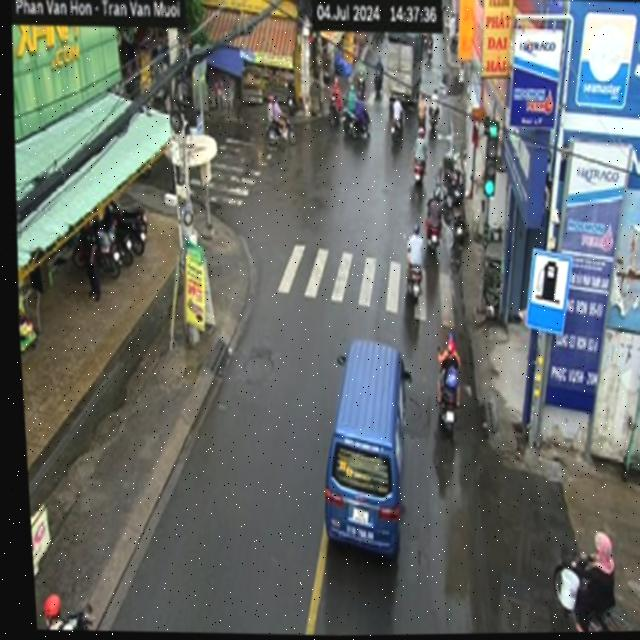Green: (477, 117, 501, 204)
